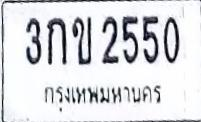0: (163, 16, 180, 63)
2: (100, 16, 119, 64)
3: (24, 17, 42, 65)
5: (142, 16, 159, 63), (122, 16, 138, 63)
A01: (46, 17, 67, 65)
A02: (71, 16, 92, 65)
BKK: (40, 81, 166, 114)
